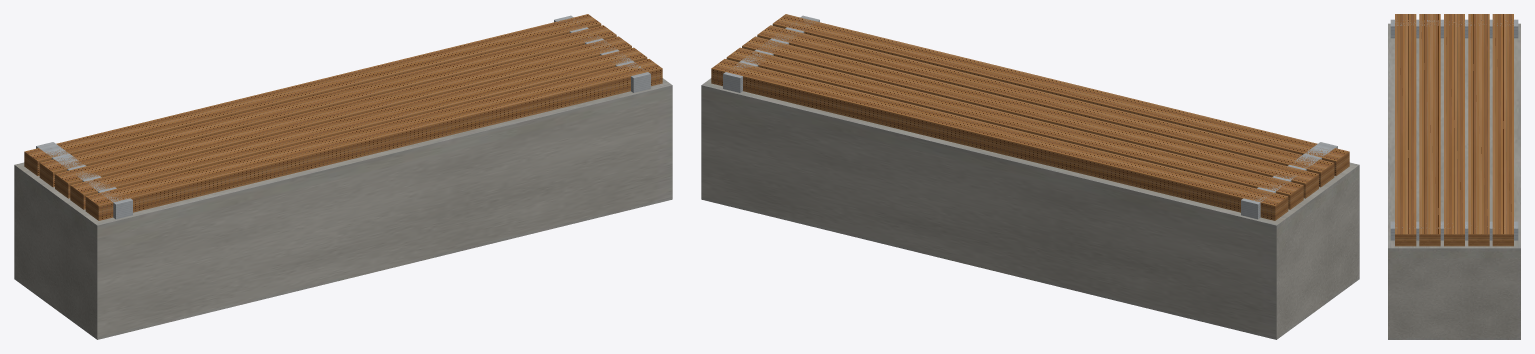
File: banc_beton_lod0.glb
3 views of the same model, side by side, from view 1: azimuth 30°, elevation 25°; view 2: azimuth 150°, elevation 25°; view 3: azimuth 270°, elevation 25° (orthographic). The views are drawn at different scales.
Visible parts, largest first — view 1: banc_beton; view 2: banc_beton; view 3: banc_beton.
Boxes of the visible parts, x1=… form: banc_beton: x1=14, y1=14, x2=672, y2=339; banc_beton: x1=701, y1=14, x2=1359, y2=339; banc_beton: x1=1388, y1=14, x2=1520, y2=339.
Bounding box in the file's own units: 2 × 0.43 × 0.5.
1 material, 1 textured.
